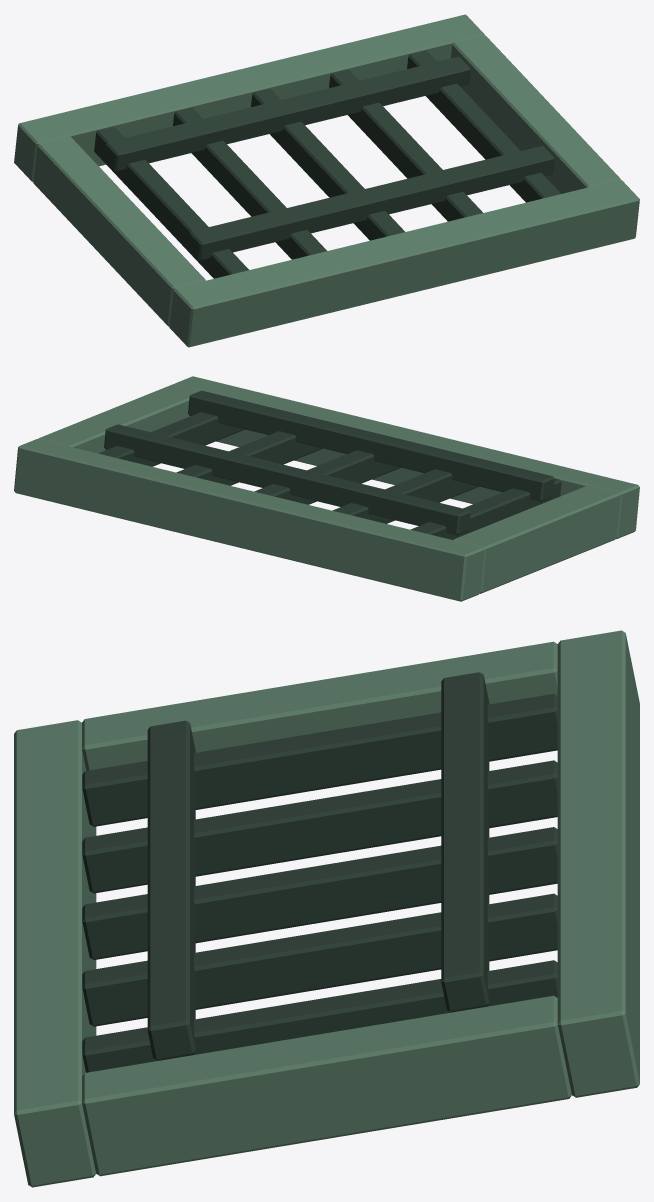
File: 地面铁栅.glb
3 views of the same model, one above another, from view 1: azimuth 30°, elevation 25°; view 2: azimuth 150°, elevation 25°; view 3: azimuth 270°, elevation 25° (orthographic). The views are drawn at different scales.
Visible parts, largest first — view 1: PT-bronze, PT-bronze_dark; view 2: PT-bronze, PT-bronze_dark; view 3: PT-bronze, PT-bronze_dark.
Part boxes in pixels (x1=…): PT-bronze: x1=14, y1=14, x2=639, y2=347; PT-bronze_dark: x1=94, y1=50, x2=561, y2=278; PT-bronze: x1=14, y1=376, x2=639, y2=601; PT-bronze_dark: x1=98, y1=390, x2=561, y2=539; PT-bronze: x1=14, y1=630, x2=639, y2=1187; PT-bronze_dark: x1=82, y1=672, x2=557, y2=1072.
Bounding box in the file's own units: 1.05 × 0.2259 × 0.7248.
